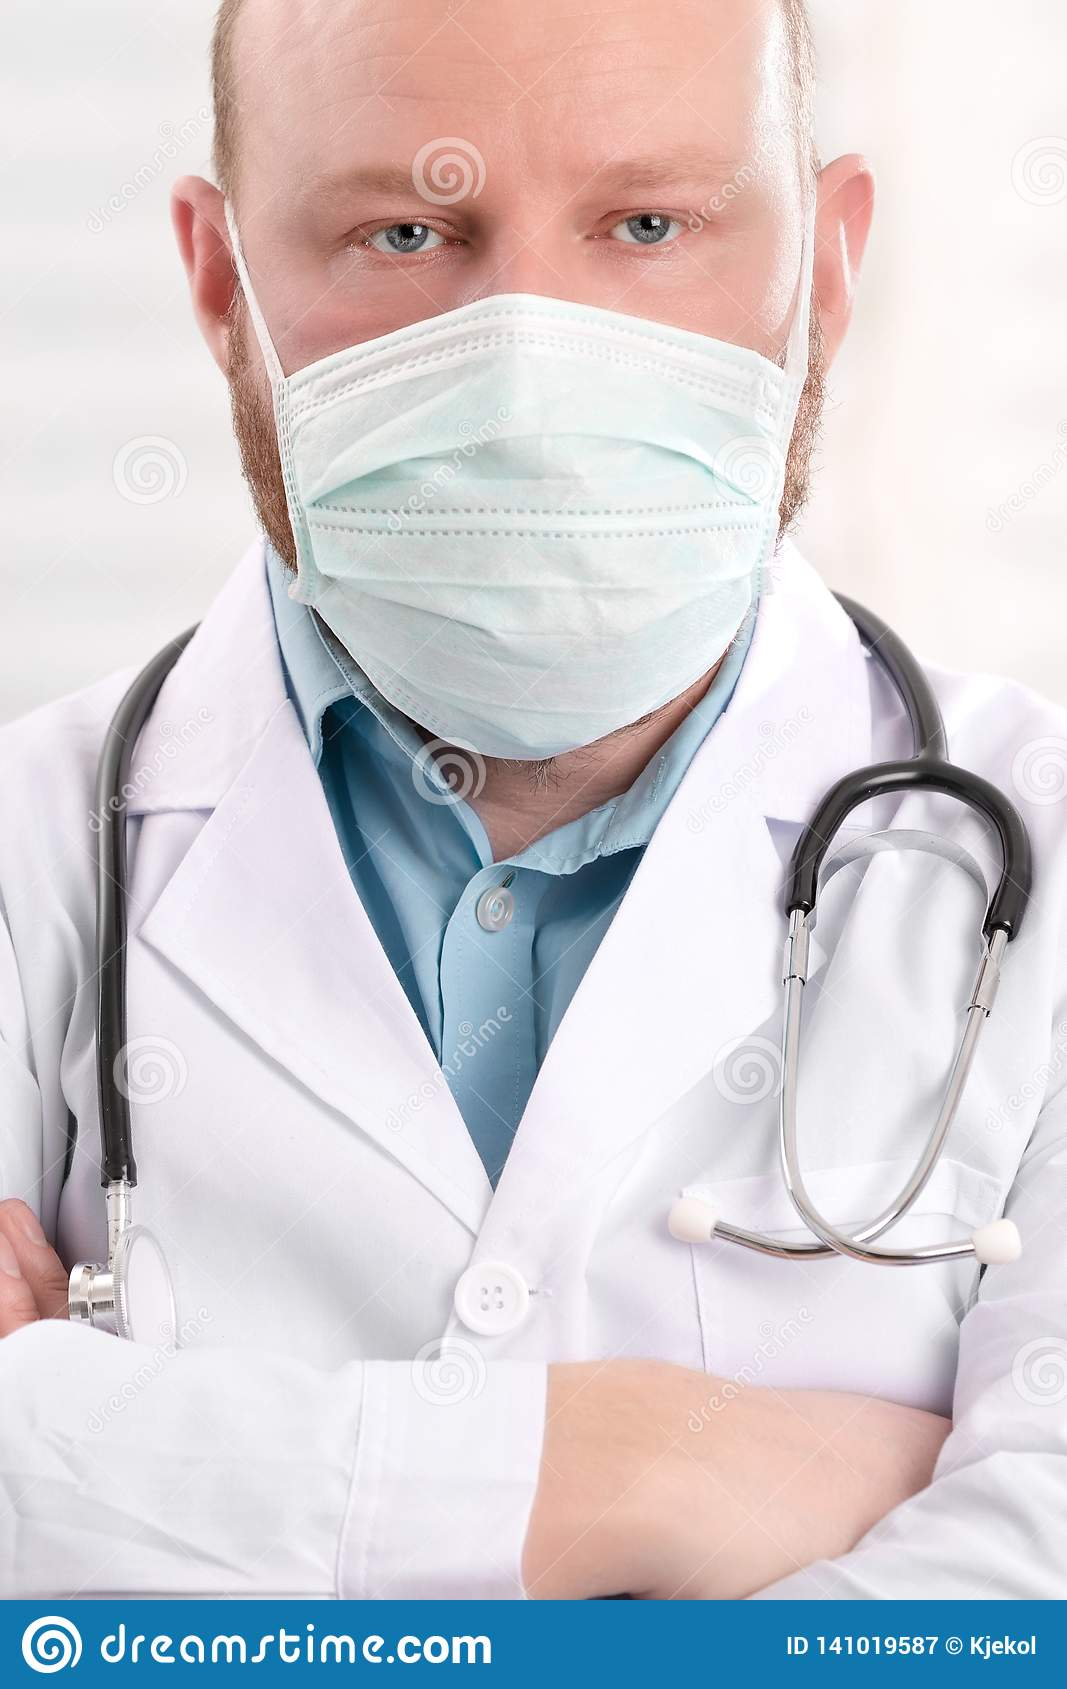mask: (236, 313, 751, 781)
